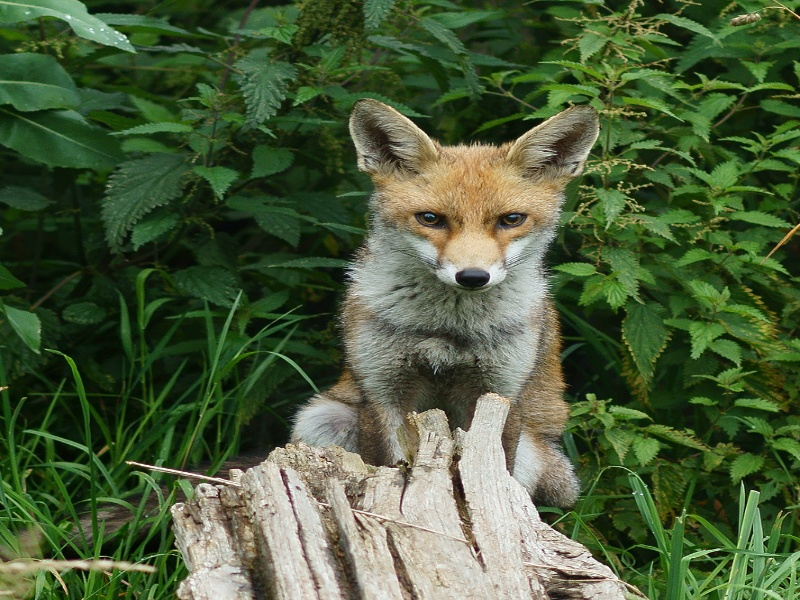fox: (288, 98, 619, 513)
